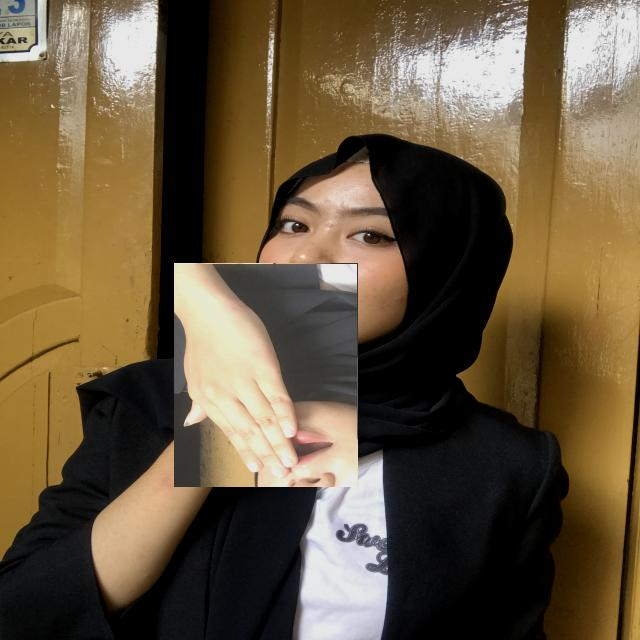ngantuk: (174, 263, 358, 487)
